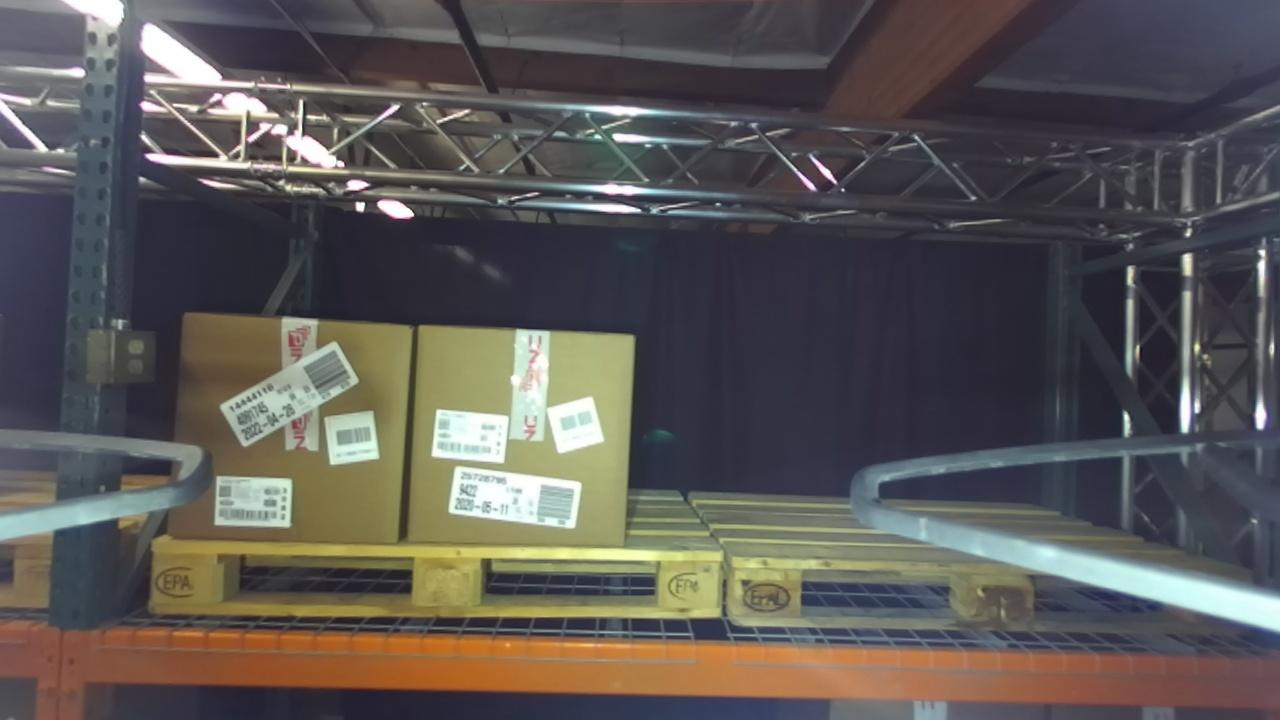box: (154, 277, 425, 584), (390, 298, 656, 575)
